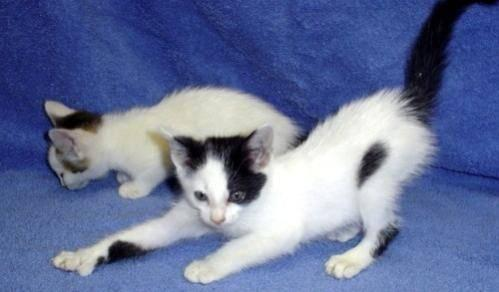cat: (45, 0, 496, 283)
